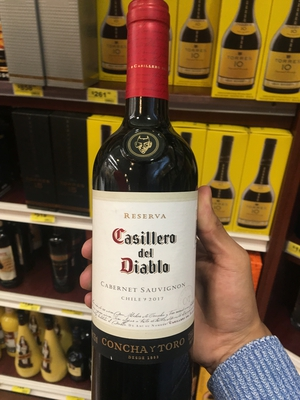casillero del diablo cabernet sauvignon: (87, 22, 197, 400)
